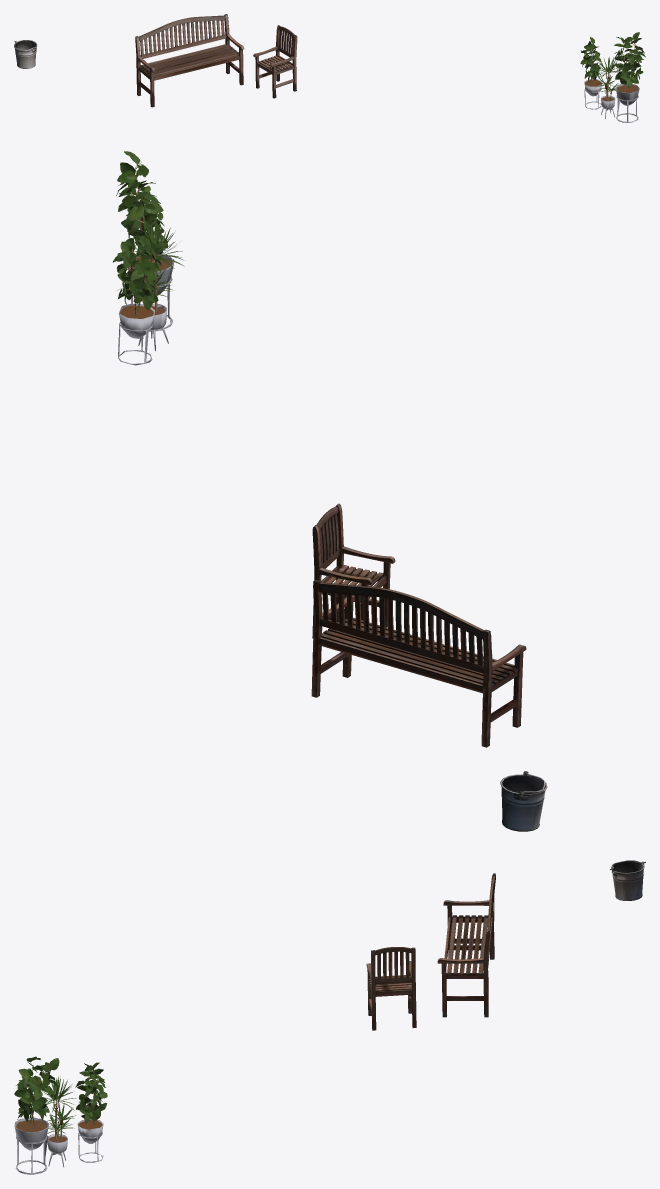
Rendered from Ornamentos.glb.
3 views of the same model, one above another, from view 1: azimuth 30°, elevation 25°; view 2: azimuth 150°, elevation 25°; view 3: azimuth 270°, elevation 25° (orthographic). The views are drawn at different scales.
Visible parts, largest first — view 1: Banco01, Vaso01, Banco02, Vaso03, Vaso02, Balde; view 2: Banco01, Vaso03, Banco02, Vaso01, Balde, Vaso02; view 3: Banco01, Vaso01, Banco02, Vaso03, Vaso02, Balde.
Part boxes in pixels (x1=…): Banco01: x1=135, y1=14, x2=244, y2=107; Vaso01: x1=614, y1=32, x2=645, y2=122; Banco02: x1=253, y1=25, x2=297, y2=98; Vaso03: x1=580, y1=37, x2=602, y2=109; Vaso02: x1=594, y1=57, x2=619, y2=118; Balde: x1=14, y1=40, x2=37, y2=68; Banco01: x1=311, y1=580, x2=526, y2=747; Vaso03: x1=113, y1=229, x2=167, y2=365; Banco02: x1=312, y1=503, x2=395, y2=638; Vaso01: x1=116, y1=151, x2=174, y2=331; Balde: x1=500, y1=771, x2=547, y2=831; Vaso02: x1=131, y1=224, x2=184, y2=350; Banco01: x1=437, y1=873, x2=495, y2=1017; Vaso01: x1=14, y1=1056, x2=59, y2=1174; Banco02: x1=366, y1=947, x2=416, y2=1030; Vaso03: x1=75, y1=1062, x2=107, y2=1162; Vaso02: x1=42, y1=1076, x2=76, y2=1167; Balde: x1=610, y1=860, x2=645, y2=900.
Bounding box in the file's own units: 9.63 × 2.14 × 8.74.
1 material, 1 textured.
